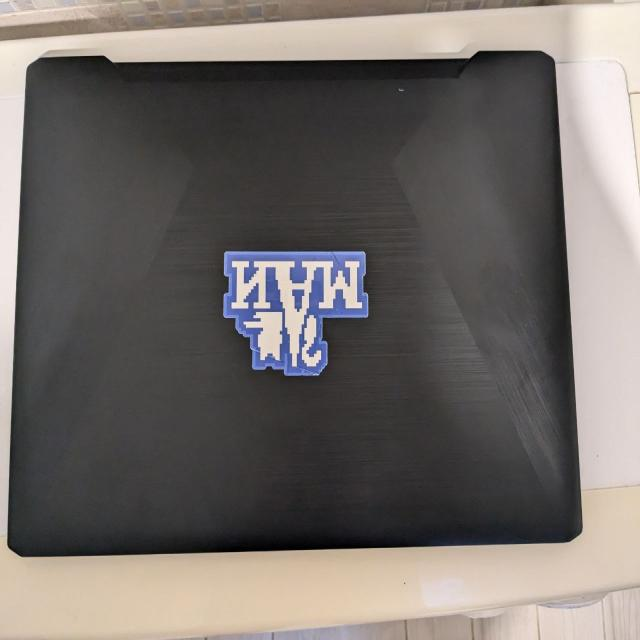chip: (393, 80, 409, 99)
